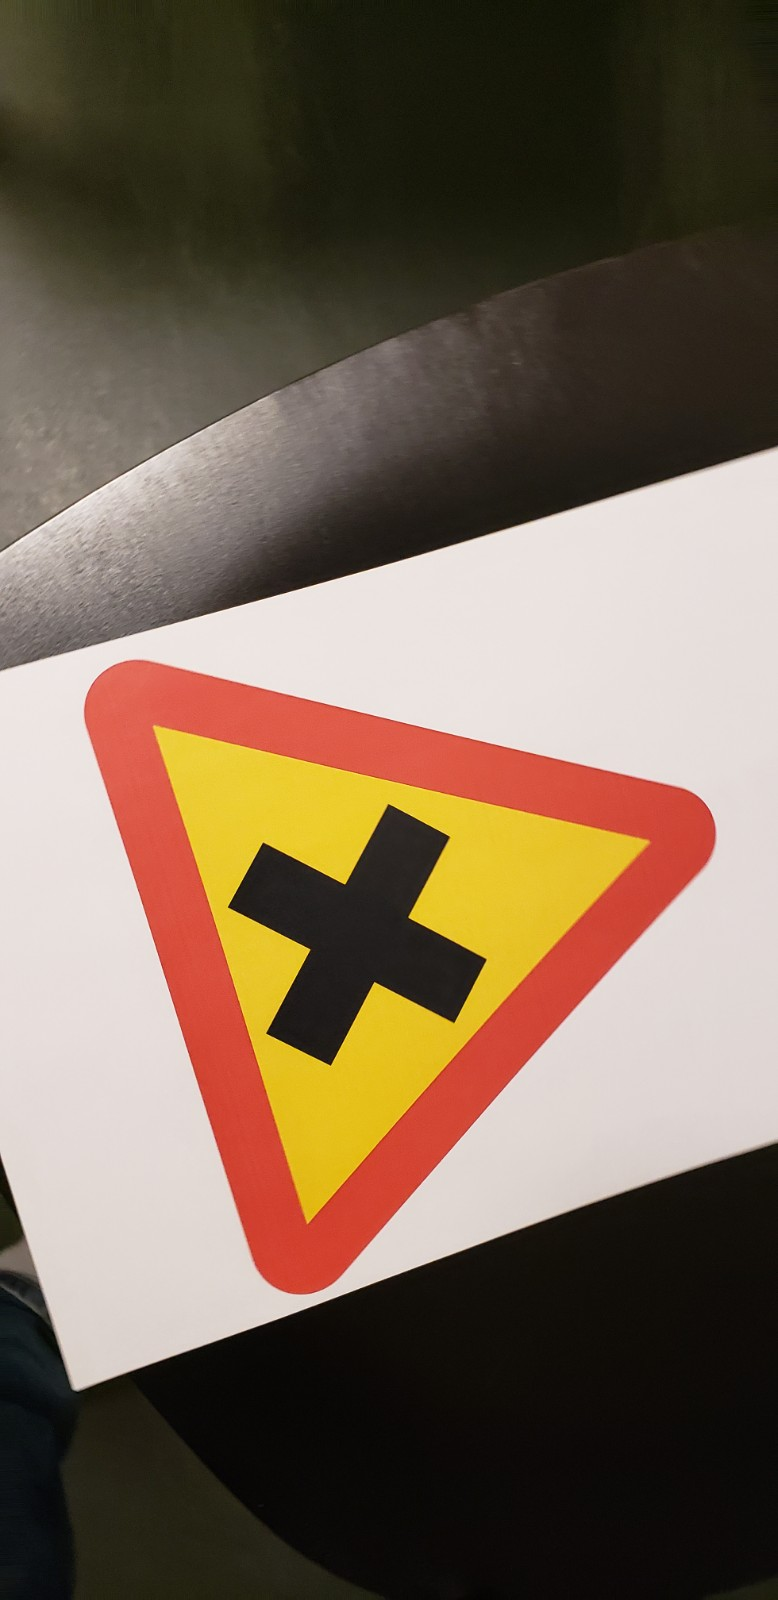junction: (32, 626, 764, 1340)
